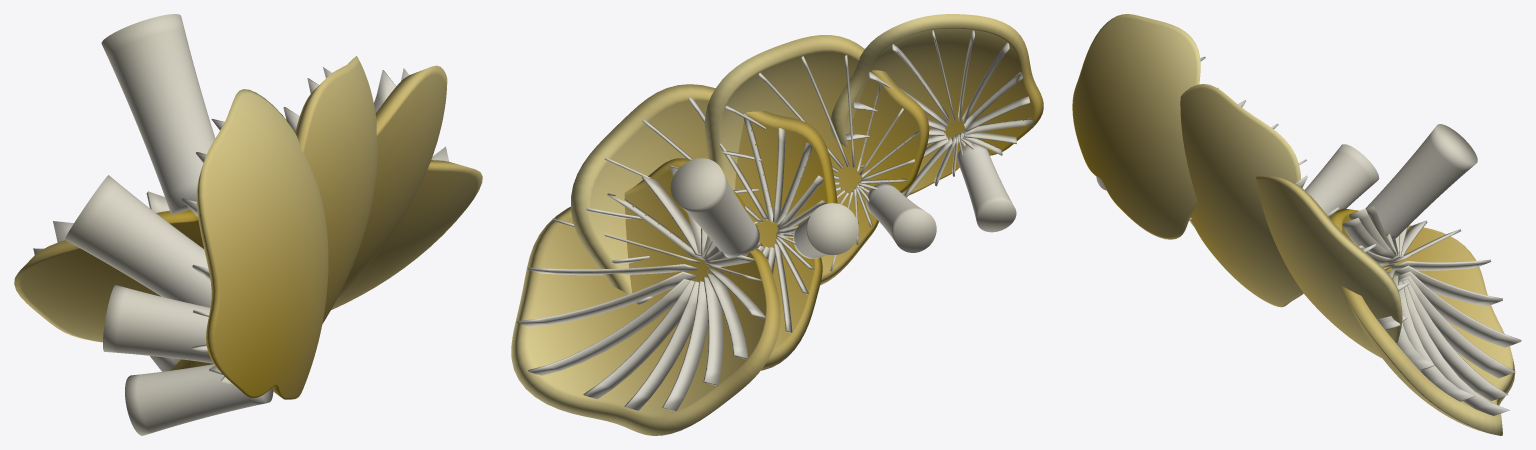
Rendered from pleurotus-citrinopileatus.glb.
The picture shows the model from 3 angles, left to right: view 1: azimuth 30°, elevation 25°; view 2: azimuth 150°, elevation 25°; view 3: azimuth 270°, elevation 25°; orthographic projection. The views are drawn at different scales.
Parts seen in each view (by area): view 1: pileus_cap, stipe_stem, lamellae_gills; view 2: pileus_cap, lamellae_gills, stipe_stem; view 3: pileus_cap, lamellae_gills, stipe_stem.
Part boxes in pixels (bbox=[...]): pileus_cap: bbox=[14, 56, 482, 399]; stipe_stem: bbox=[64, 14, 273, 435]; lamellae_gills: bbox=[33, 67, 449, 384]; pileus_cap: bbox=[511, 14, 1043, 435]; lamellae_gills: bbox=[516, 30, 1033, 411]; stipe_stem: bbox=[670, 143, 1016, 258]; pileus_cap: bbox=[1072, 14, 1515, 435]; lamellae_gills: bbox=[1189, 56, 1521, 415]; stipe_stem: bbox=[1096, 124, 1477, 239].
Size of the model in its own units: 1.88 by 1.61 by 2.08.
